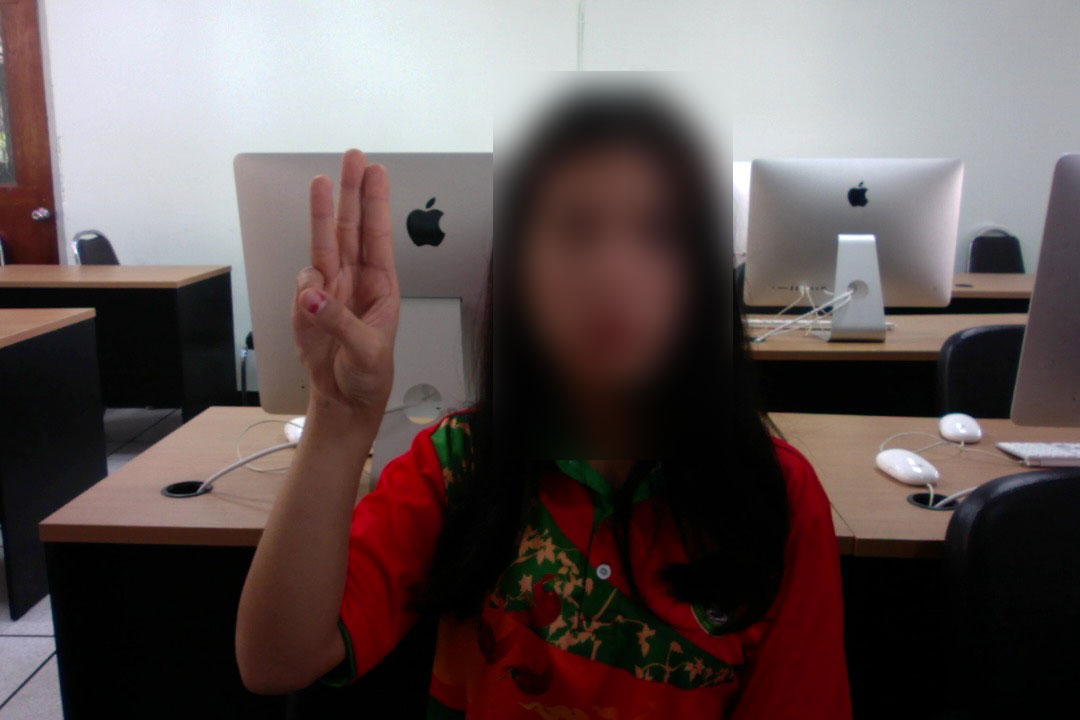wor: (274, 141, 415, 420)
